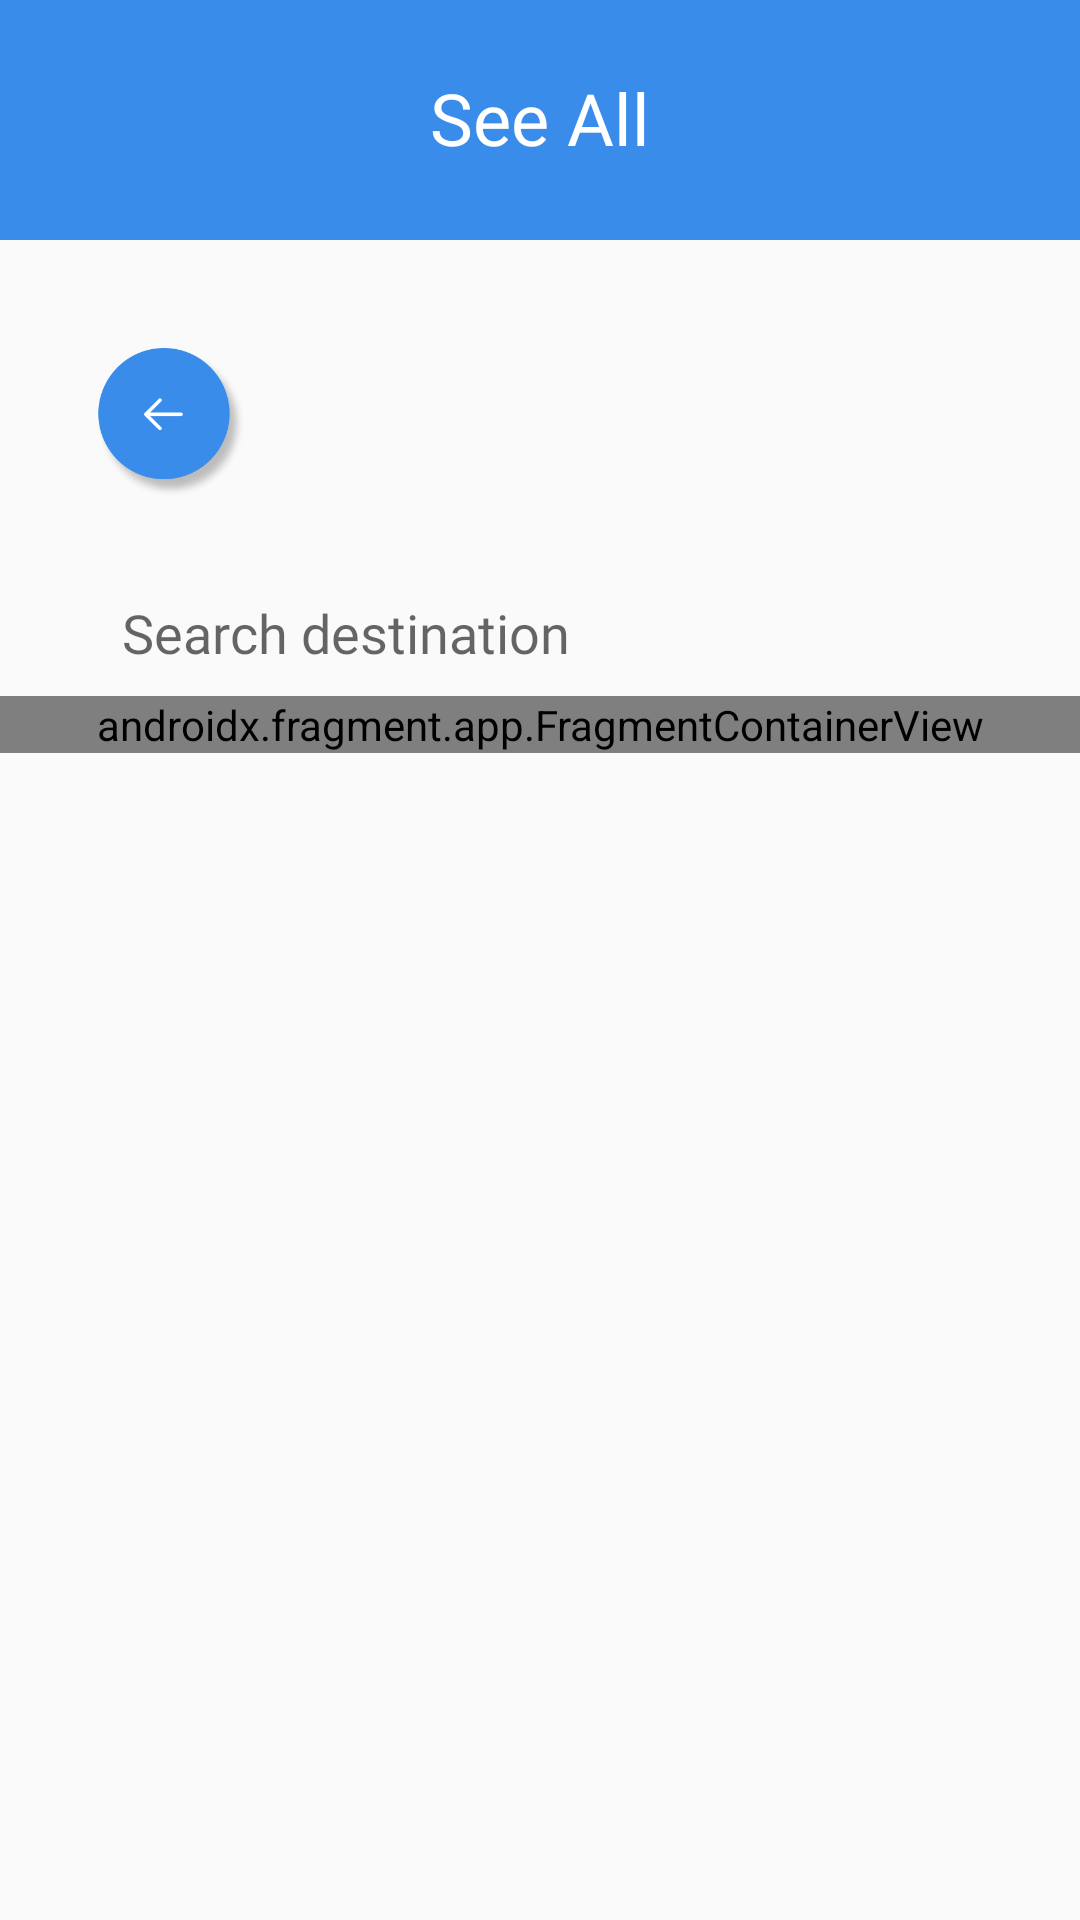

Where icons sit on this 1080w x 1920h app screen, as (x1, y1, x2, y2):
back: (98, 348, 238, 490)
